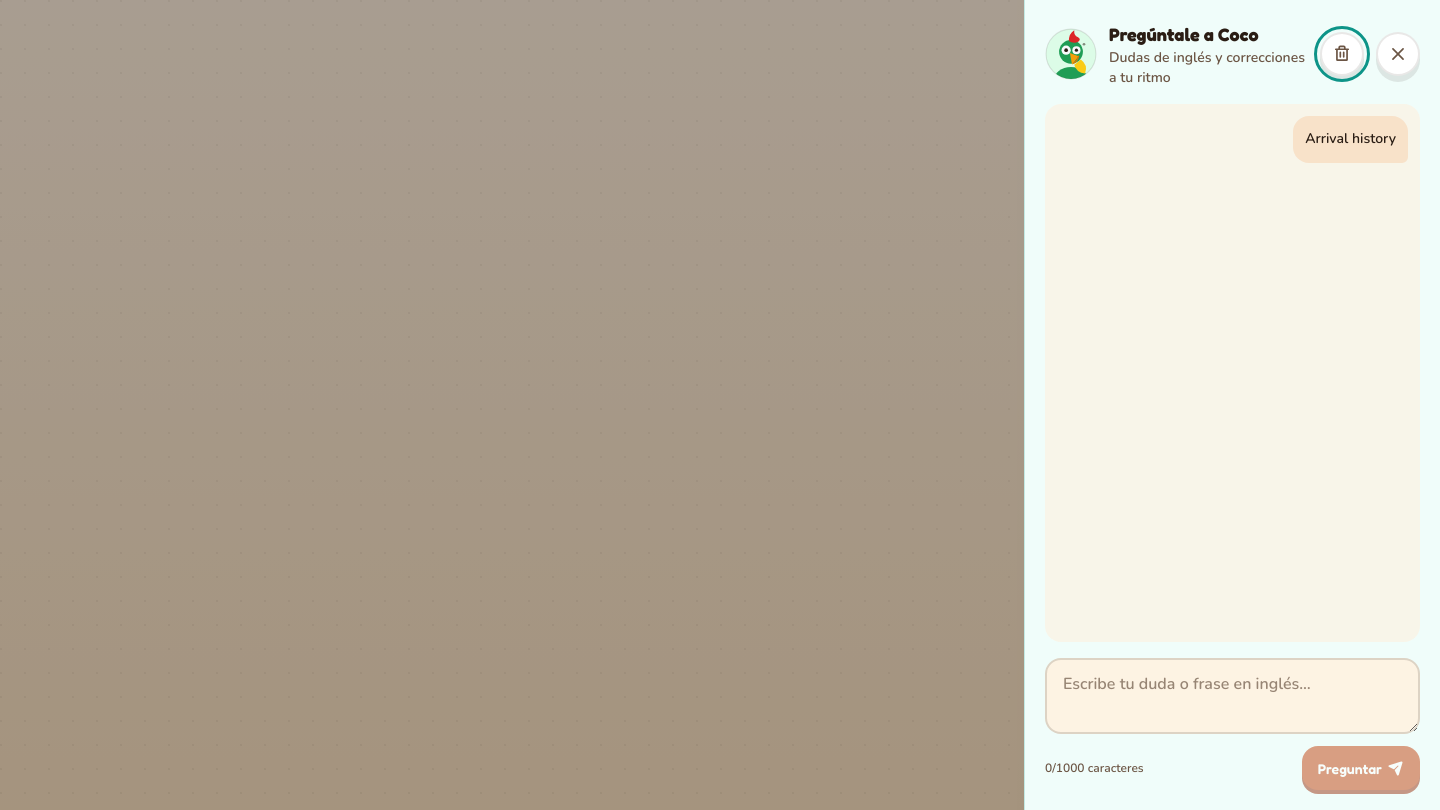
Test: TutorPanel › clears every history for current account only
Expected: the text "Arrival history" is shown, [1305, 128, 1396, 151]
Click the button named "Limpiar historial": (1342, 54) [1320, 32, 1364, 76]
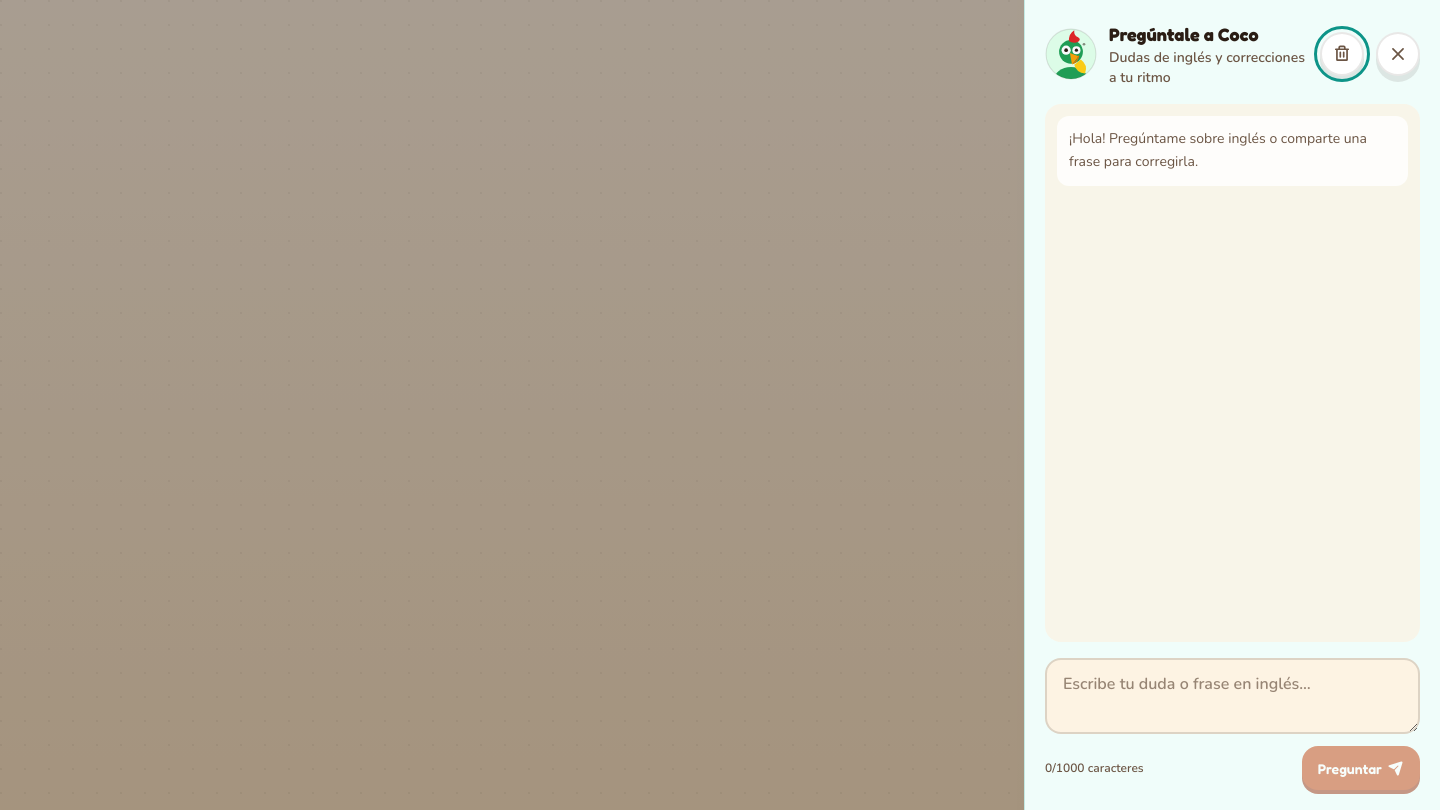
Expected: the text "Arrival history" is gone
